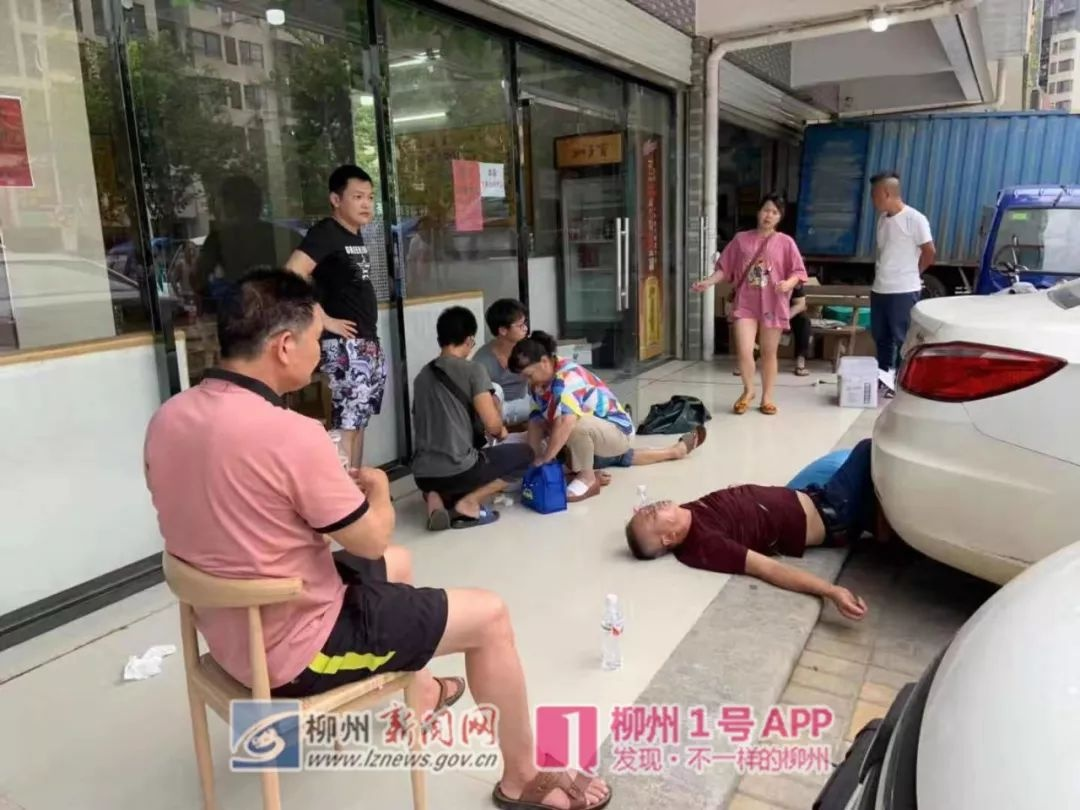falling: (613, 430, 911, 623)
